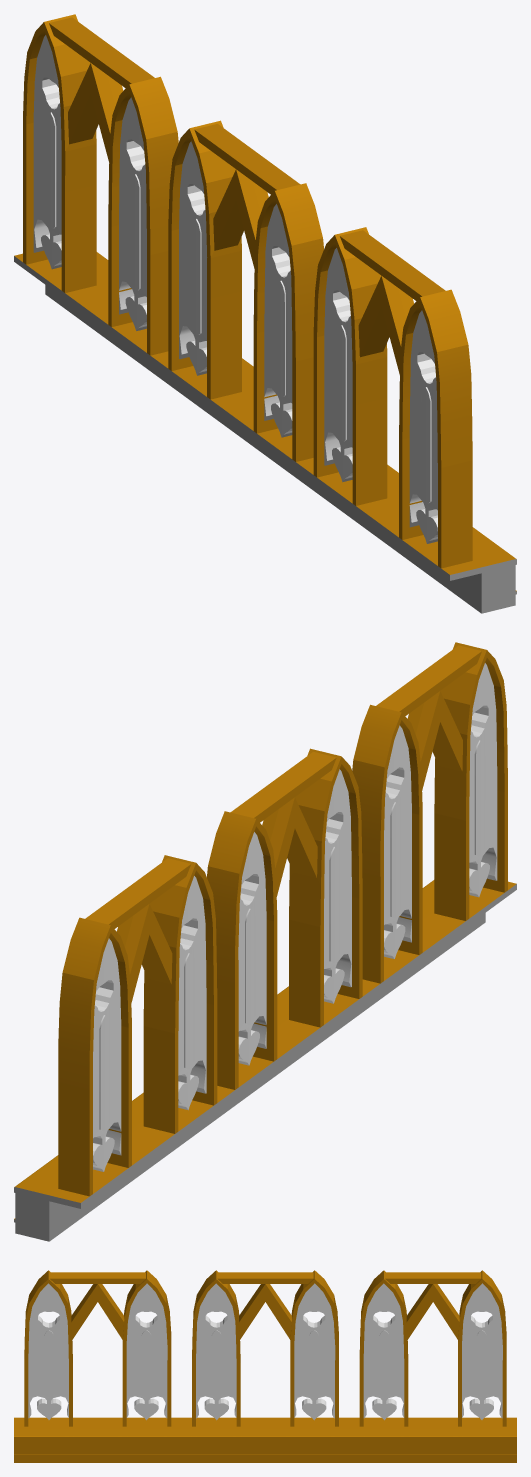
Rendered from Mesh_Railing_a01.fbx.
3 views of the same model, one above another, from view 1: azimuth 30°, elevation 25°; view 2: azimuth 150°, elevation 25°; view 3: azimuth 270°, elevation 25° (orthographic). The views are drawn at different scales.
Parts seen in each view (by area): view 1: Mesh_Railing_a01; view 2: Mesh_Railing_a01; view 3: Mesh_Railing_a01.
Boxes of the visible parts, x1,y1,x2,y2 form: Mesh_Railing_a01: [14, 14, 516, 613]; Mesh_Railing_a01: [14, 642, 516, 1241]; Mesh_Railing_a01: [14, 1270, 516, 1462].
Size of the model in its own units: 2.12 by 9.18 by 24.
